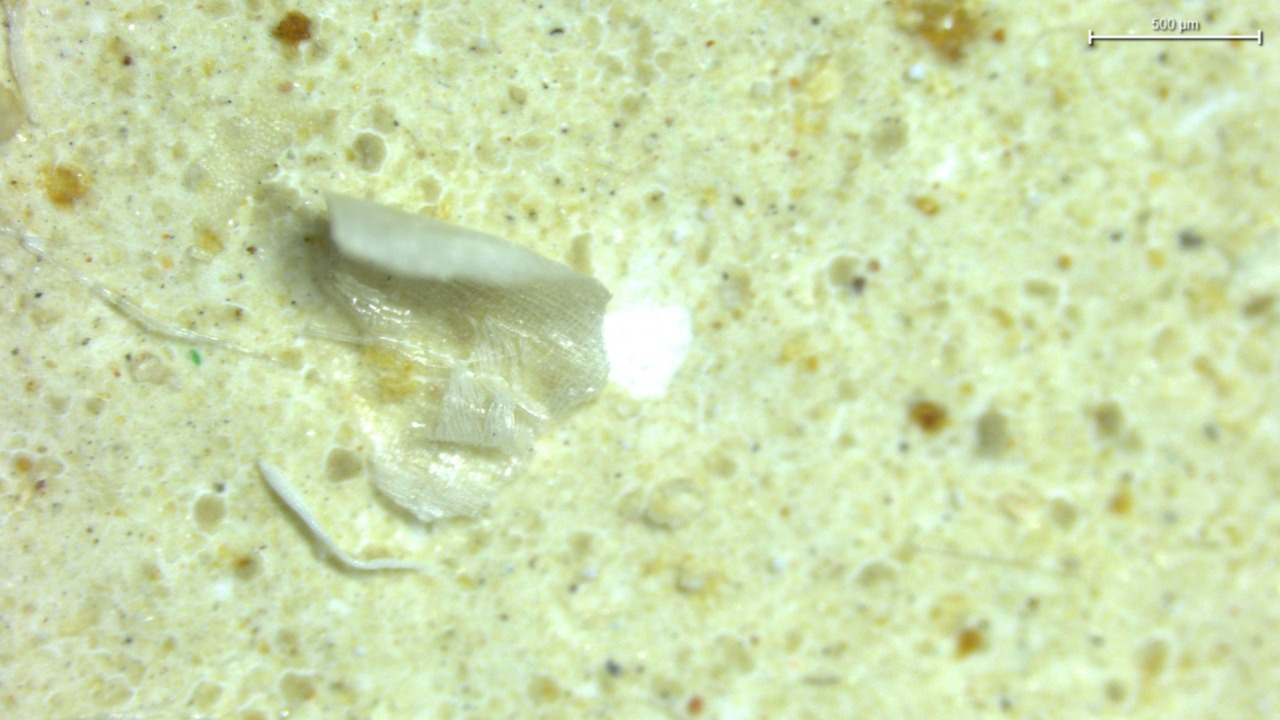microplastic_fragment: (290, 192, 610, 520)
